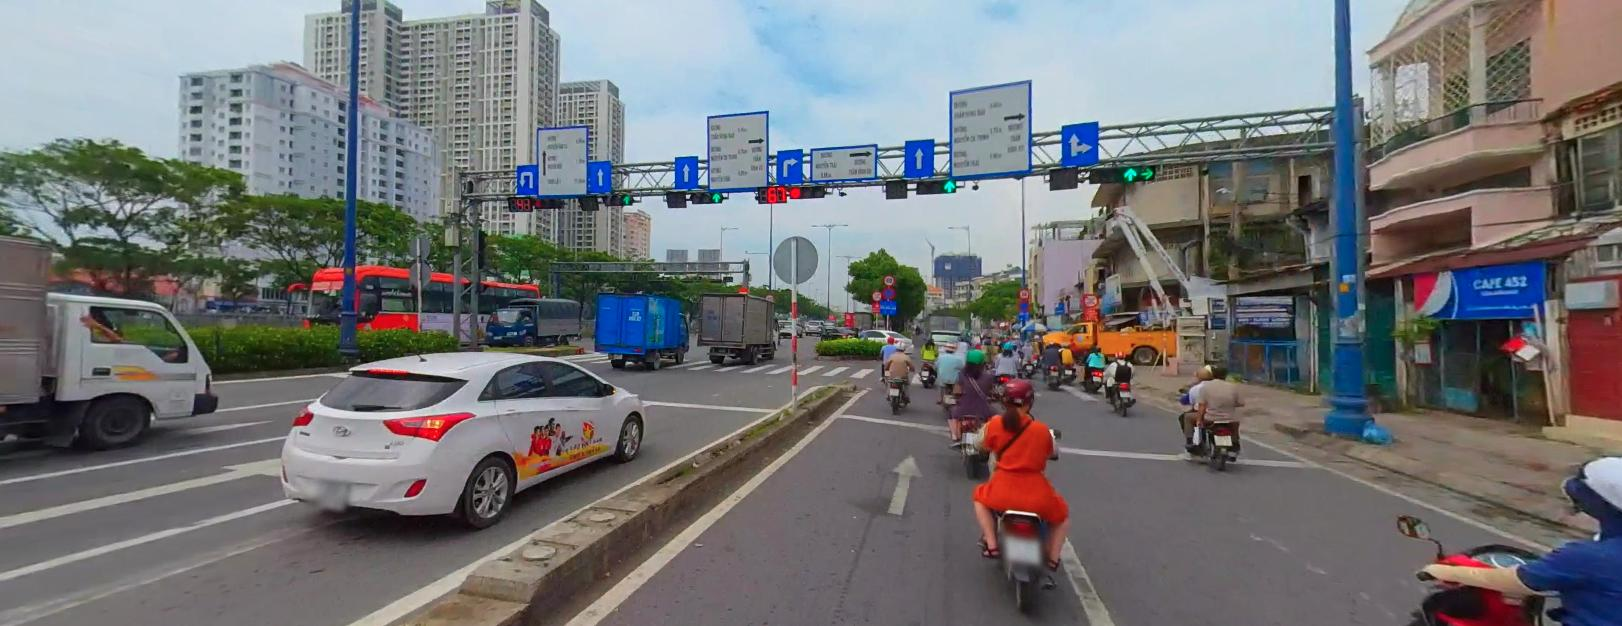Cam con lai: (1082, 292, 1098, 306), (872, 289, 881, 299)
Cam dung va do: (882, 286, 895, 298), (1018, 300, 1029, 310)
Cam nguoc chieu: (738, 285, 748, 294)
Gioi han toc do: (883, 274, 894, 284), (1018, 287, 1027, 297), (765, 293, 772, 301)
